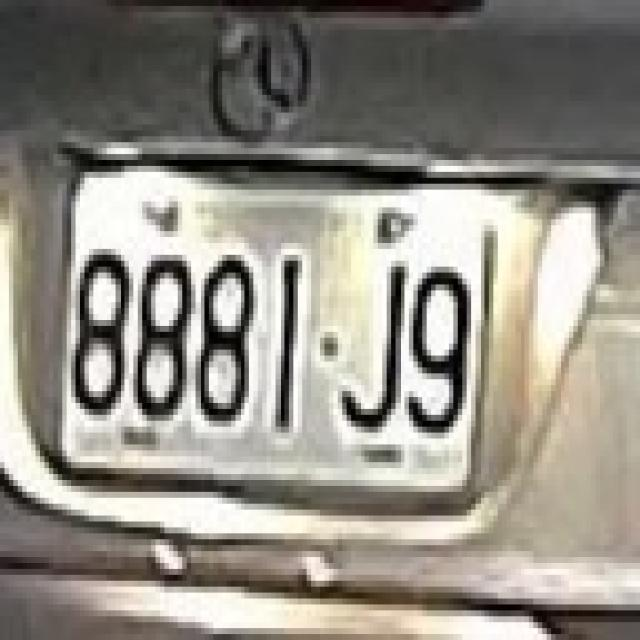license-plate: (56, 169, 492, 496)
